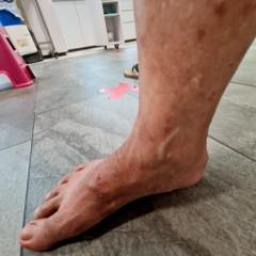Medial View -Right Foot-: (11, 98, 227, 255)
